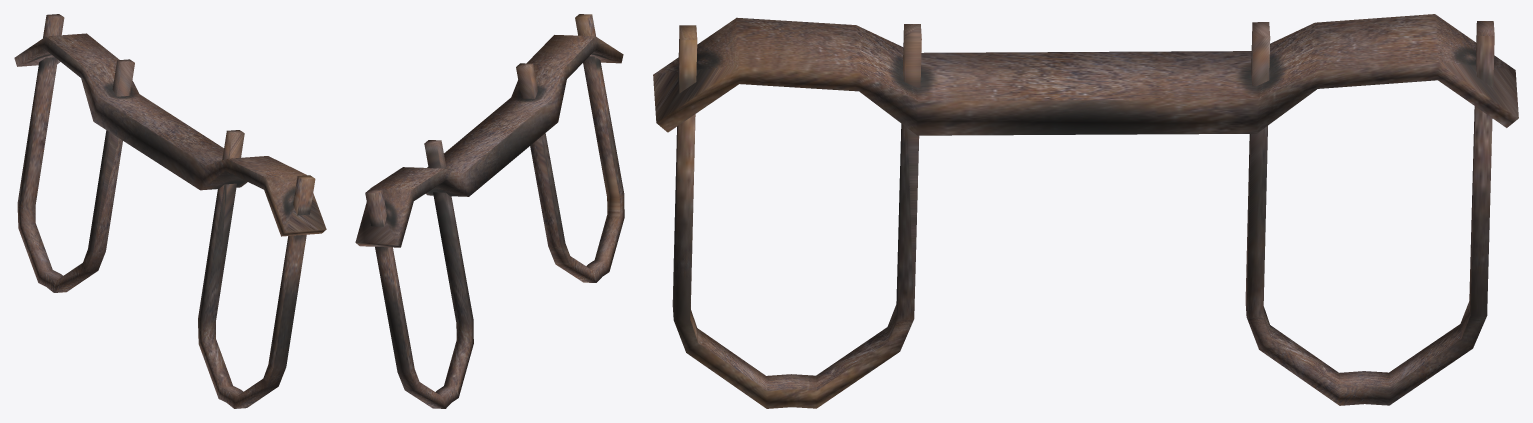
File: Yoke_ONLY.FBX
3 views of the same model, side by side, from view 1: azimuth 30°, elevation 25°; view 2: azimuth 150°, elevation 25°; view 3: azimuth 270°, elevation 25° (orthographic). The views are drawn at different scales.
Visible parts, largest first — view 1: Yoke; view 2: Yoke; view 3: Yoke.
Part boxes in pixels (left/top/right/bottom): Yoke: left=14, top=14, right=326, bottom=408; Yoke: left=355, top=14, right=624, bottom=408; Yoke: left=653, top=14, right=1518, bottom=408.
Bounding box in the file's own units: 11.47 × 34.31 × 64.65.
